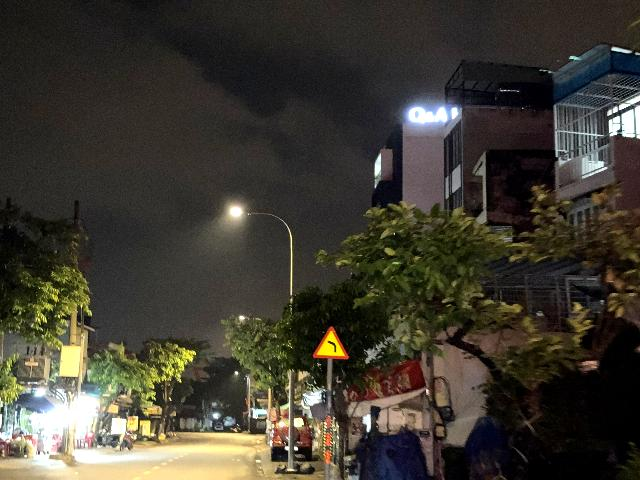cho-ngoat-nguy-hiem-ben-trai: (312, 326, 349, 360)
